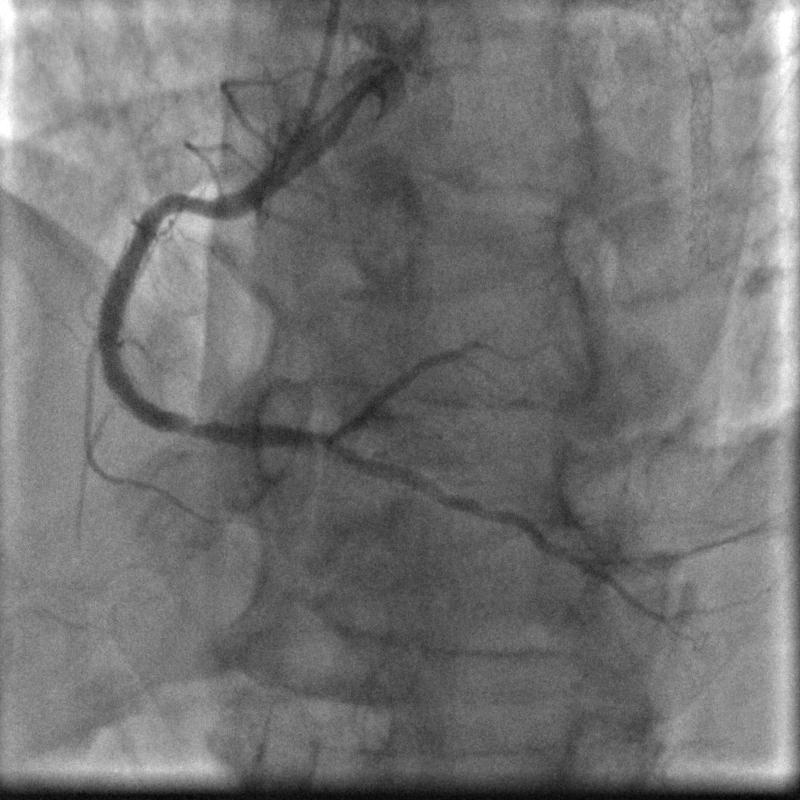Stenosis: (162, 183, 203, 230)
